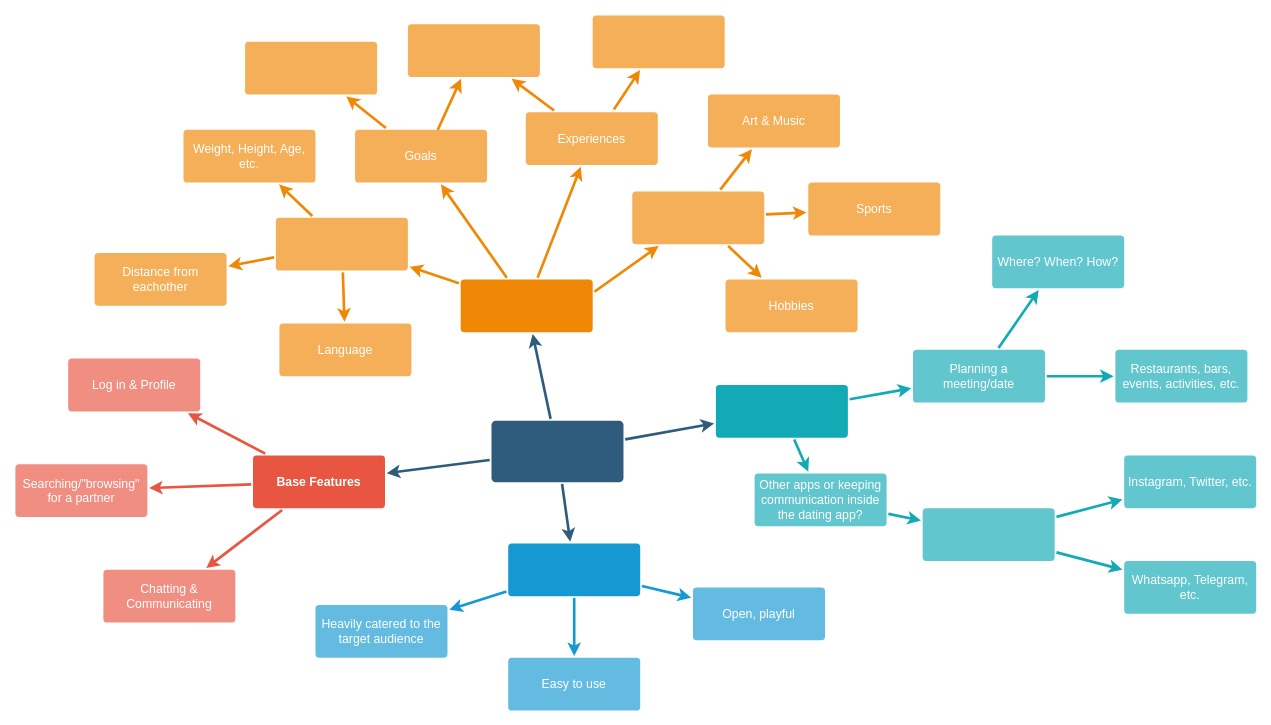
Some shapes in this 1271 by 725 pixel diagram are drawn without their labels. Each missing label, with the box of its shape:
Appearances & Location: (275, 217, 407, 270)
Bucketlist / Lifegoals: (407, 24, 539, 77)
Dating App: (491, 420, 623, 482)
Initial Attraction & Connection: (460, 279, 592, 332)
Interests: (632, 191, 764, 244)
Look & Feel: (508, 543, 640, 596)
Moving On: (715, 385, 847, 437)
Other Achievements eg. Running a marathon: (245, 41, 377, 94)
Social Media & Communication Apps: (922, 508, 1054, 561)
Travelling: (592, 15, 724, 68)
